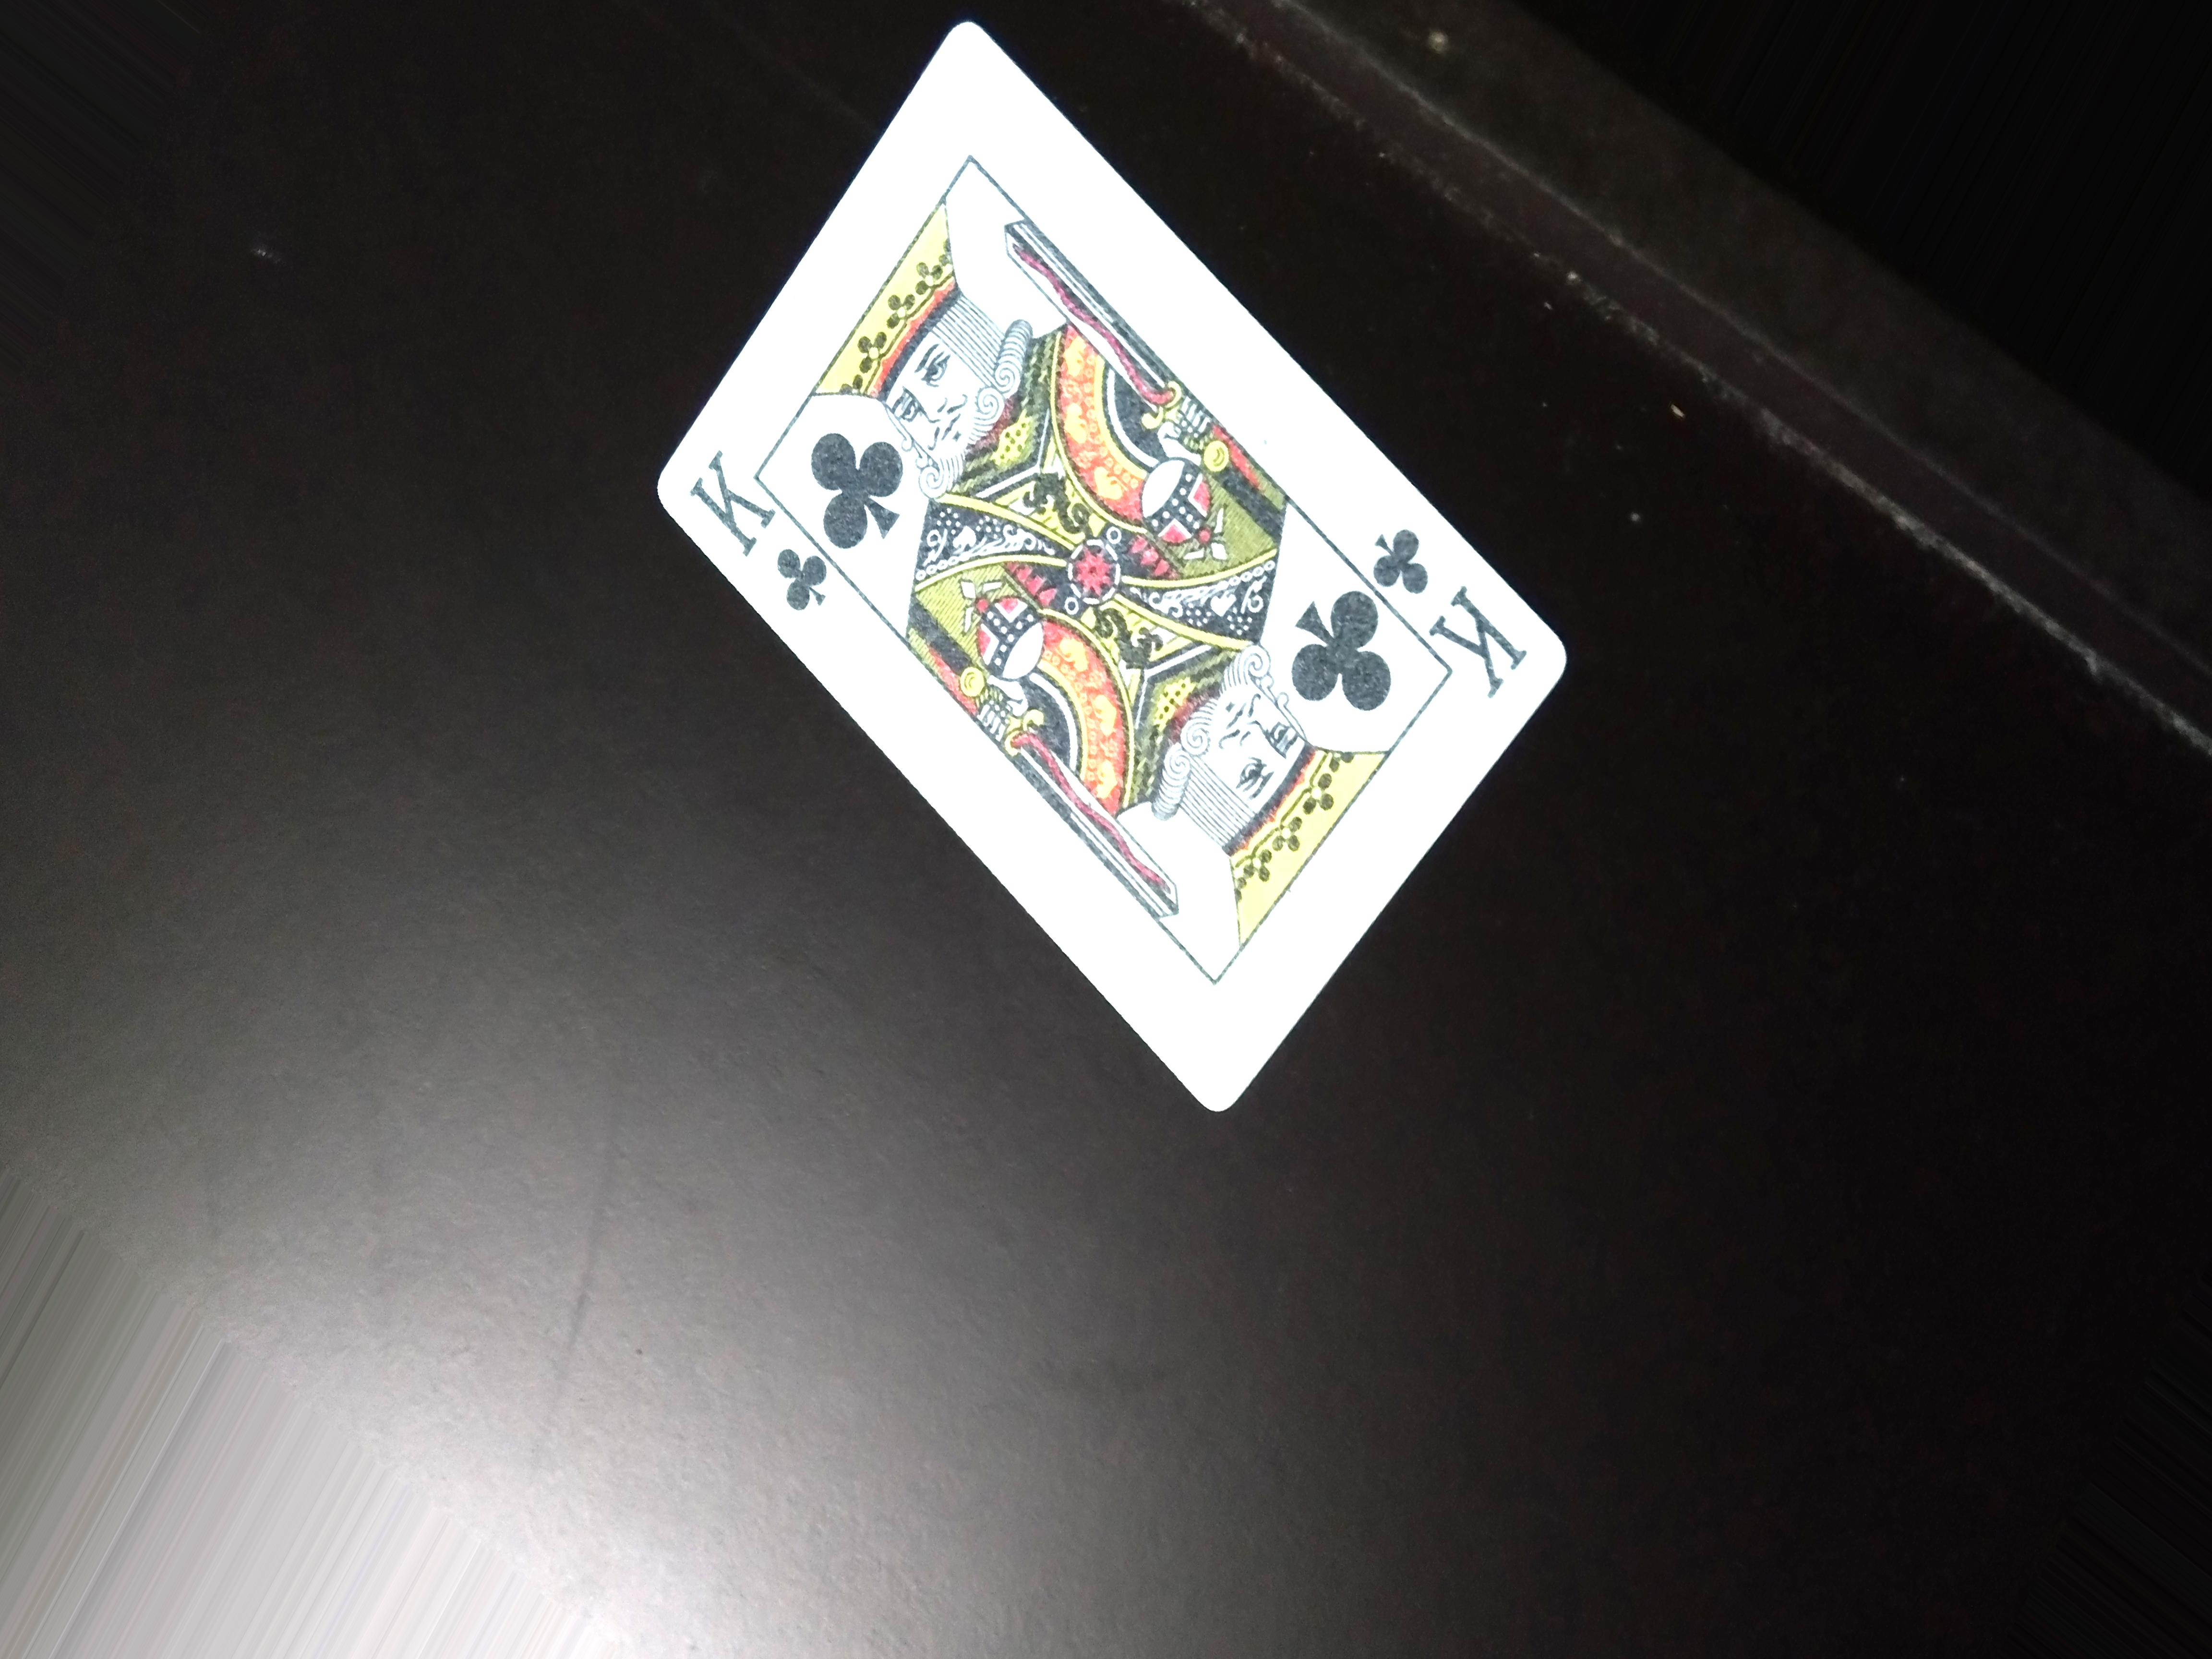KC: (686, 441, 845, 610)
